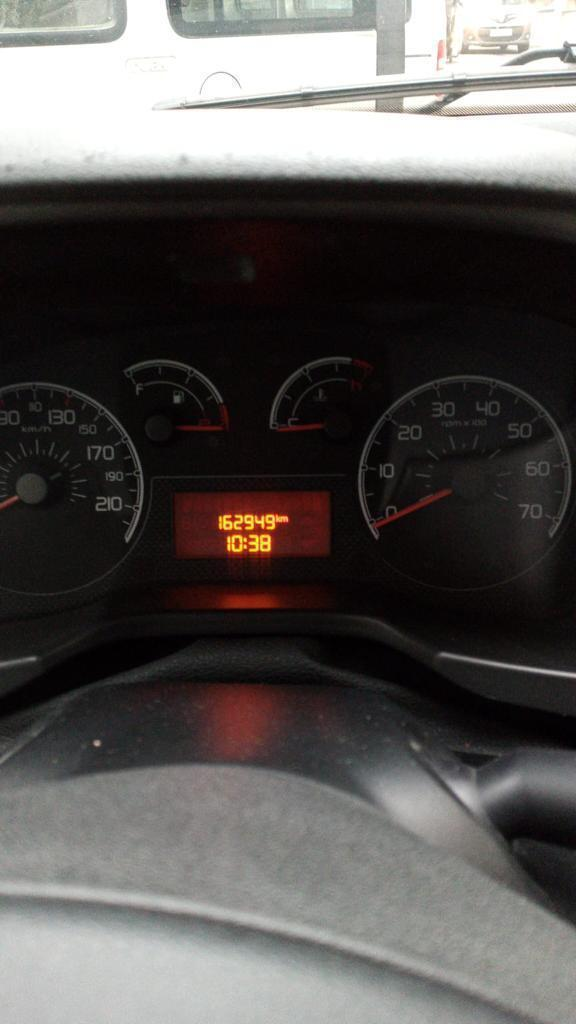0: (231, 534, 242, 552)
1: (216, 514, 223, 530), (225, 534, 231, 551)
2: (233, 513, 243, 531)
3: (247, 533, 259, 552)
4: (255, 514, 264, 529)
6: (223, 513, 233, 530)
8: (259, 533, 272, 552)
9: (264, 513, 275, 530), (244, 513, 254, 530)
X: (242, 536, 247, 550), (280, 515, 288, 523), (275, 513, 281, 523)
odometer: (171, 487, 335, 562)
